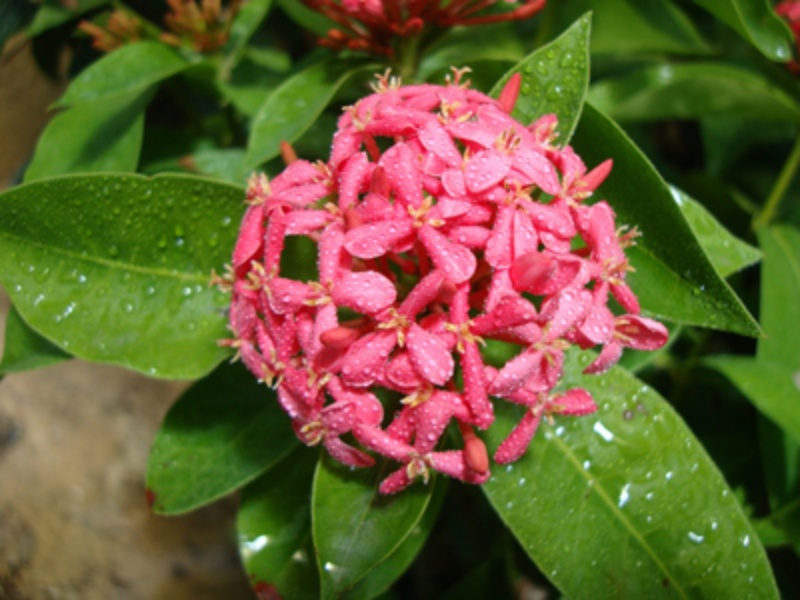Ixora: (203, 48, 687, 499)
